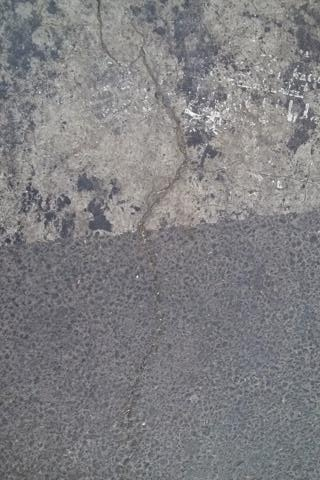A: (128, 42, 191, 445), (89, 1, 121, 65)
